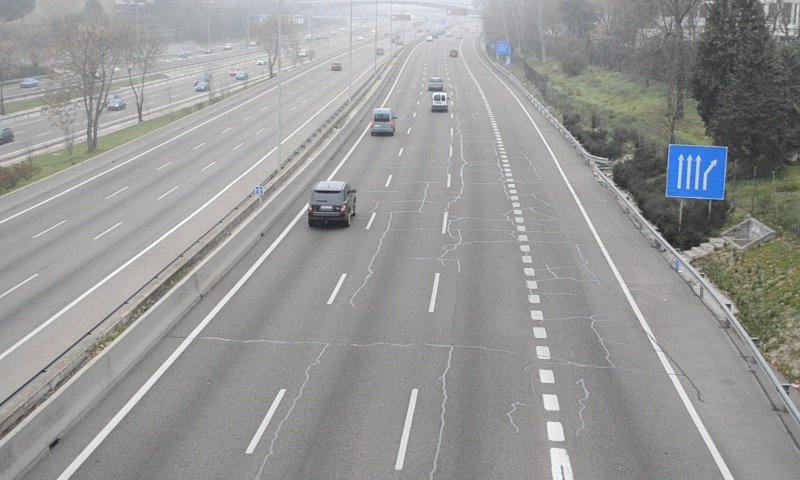car: (307, 180, 356, 222)
van: (370, 107, 394, 136), (430, 90, 448, 113)
